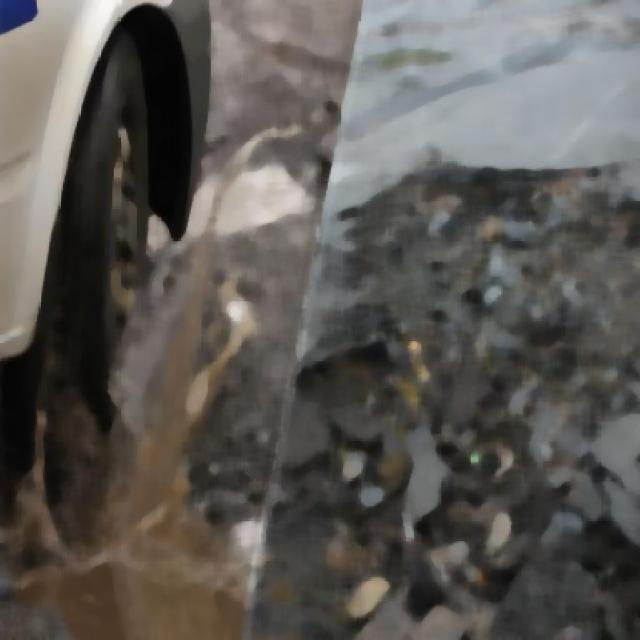Pothole: (358, 183, 639, 639), (37, 522, 252, 638), (202, 114, 322, 232)
